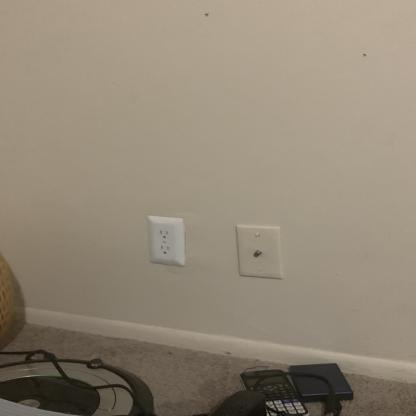OUTLET: (148, 215, 186, 268)
